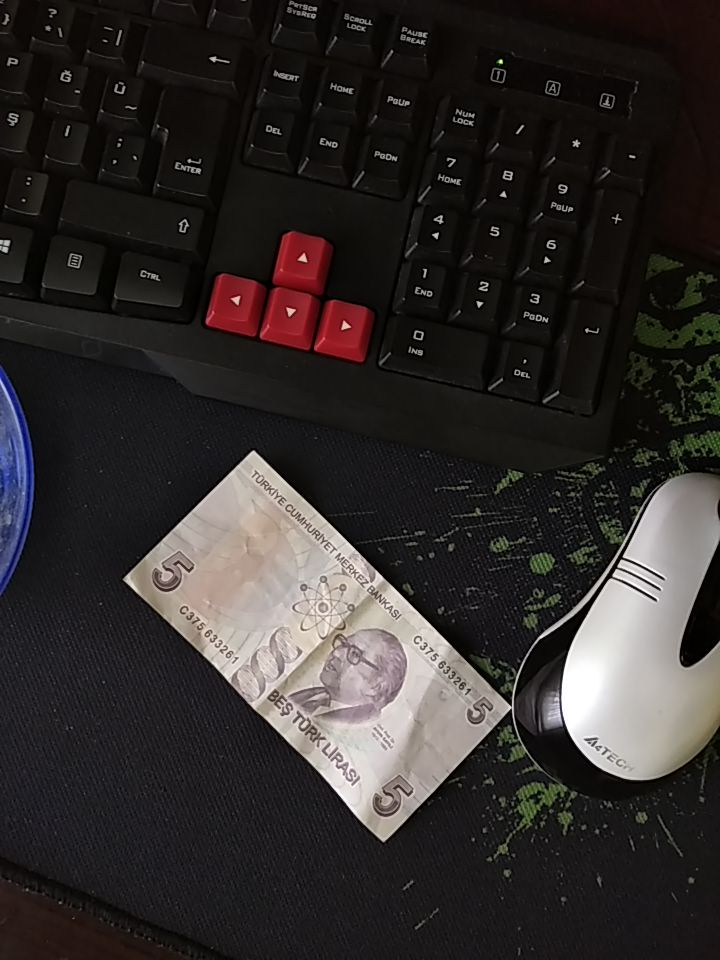5TL: (120, 449, 515, 845)
